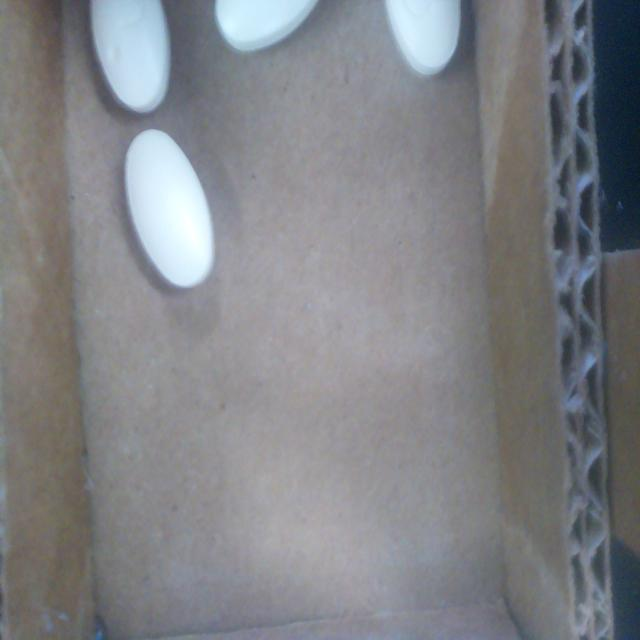pill: (124, 129, 215, 288), (89, 0, 170, 113), (386, 0, 460, 75), (214, 0, 318, 51)
